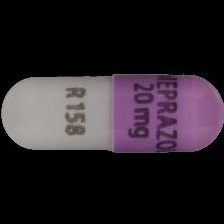55111-158: (0, 0, 224, 224)
